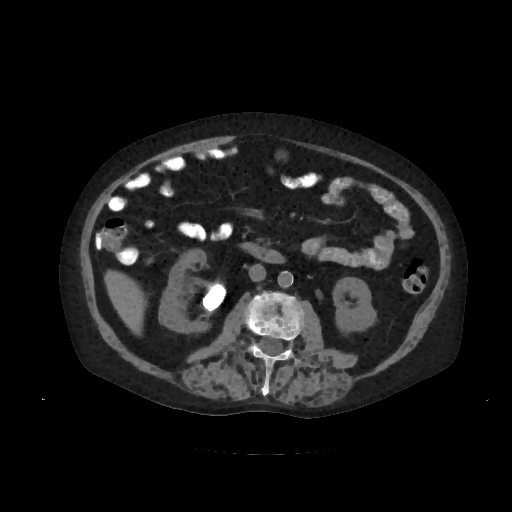Lesion: (197, 280, 232, 311)
